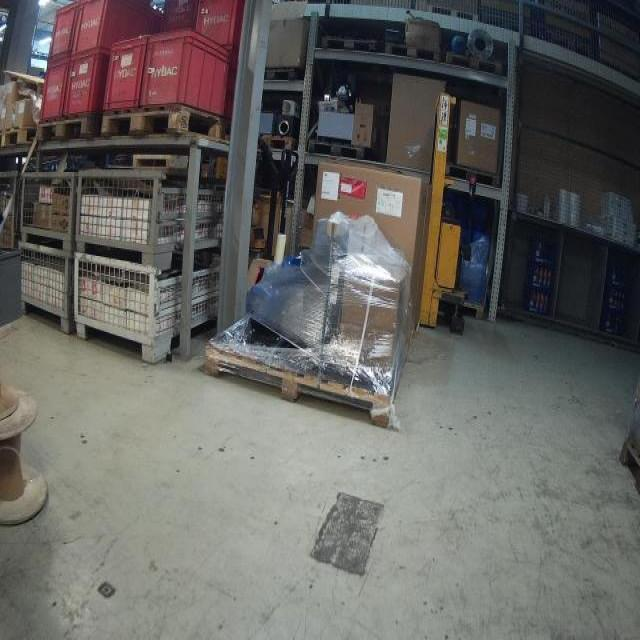pallet: (203, 340, 390, 426), (97, 101, 233, 148), (444, 49, 504, 79), (37, 115, 101, 143), (445, 159, 499, 191), (615, 429, 640, 496), (306, 135, 365, 163), (383, 39, 442, 63), (320, 33, 377, 54), (0, 121, 38, 150), (259, 133, 298, 154), (454, 303, 485, 321)
pallet_truck: (422, 92, 467, 336), (261, 139, 302, 281)
small_load_carrier: (138, 26, 235, 123), (70, 3, 156, 57), (58, 59, 126, 121), (103, 40, 150, 119), (194, 2, 254, 58), (45, 5, 86, 65), (42, 64, 73, 126), (152, 2, 197, 35)
stillage: (66, 251, 226, 366), (71, 164, 226, 265), (10, 244, 70, 337), (17, 168, 78, 249), (1, 163, 19, 252)
